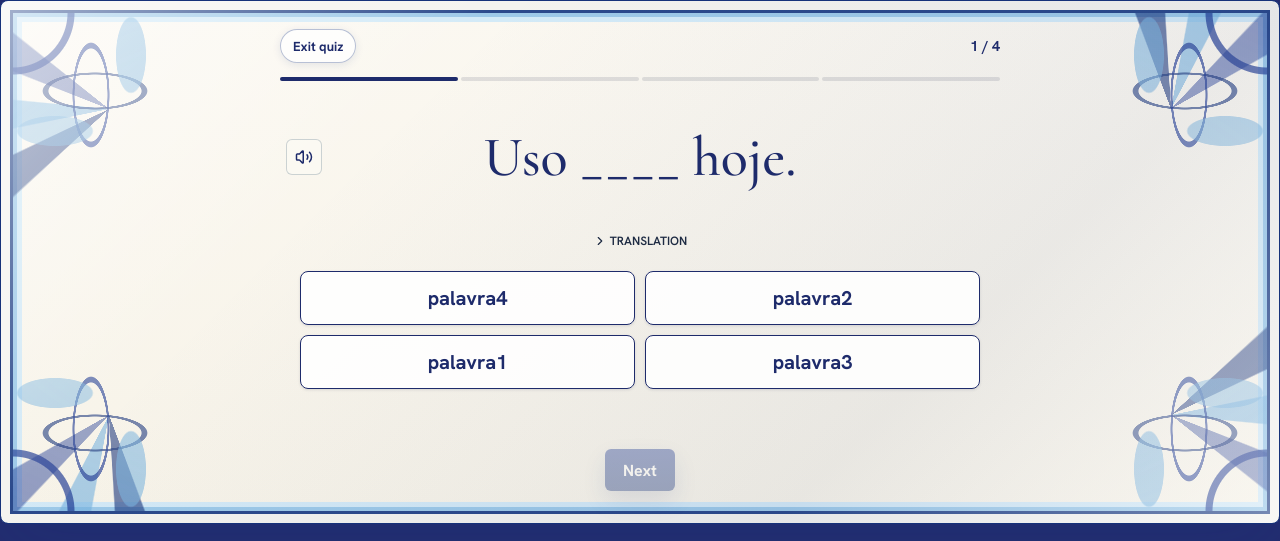
ModuleQuiz audio › locks choices, shows feedback, and waits for Next before advancing
This screenshot has width=1280, height=541.
Click the button "palavra4". click: (468, 298)
box: left=300, top=271, right=635, bottom=325
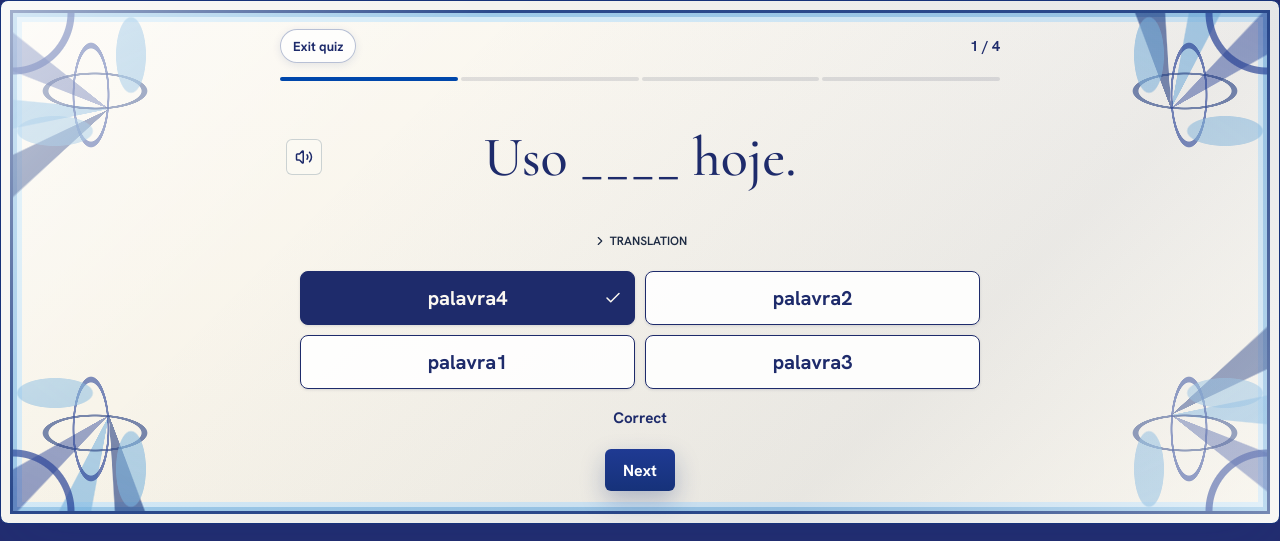
Expected: the button "Next" is enabled
Click the button "Next". click: (640, 470)
box: left=605, top=449, right=675, bottom=491
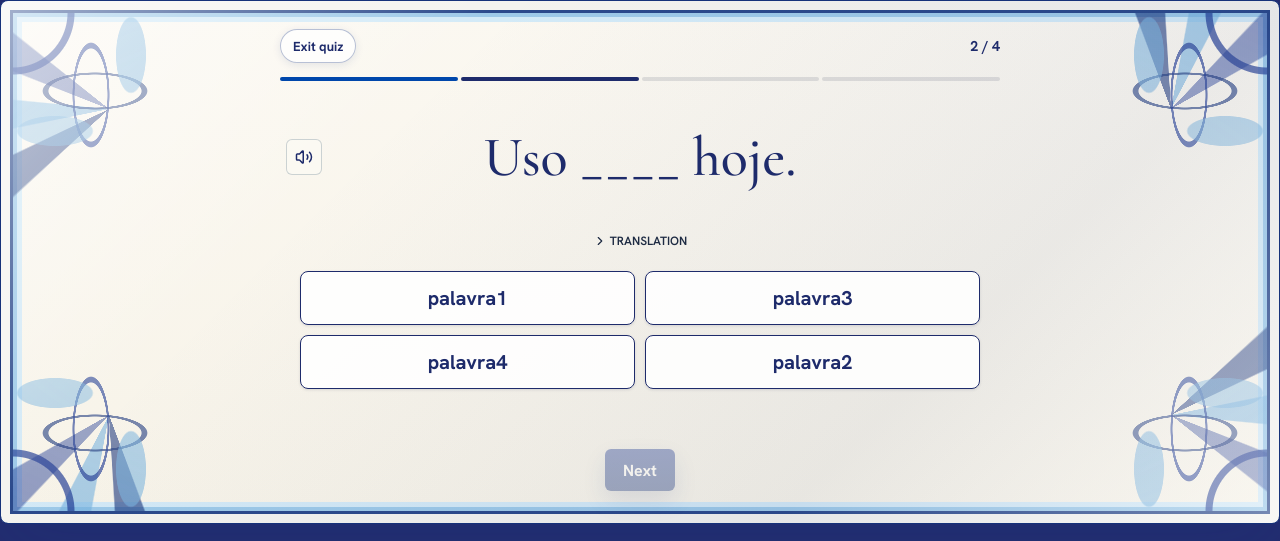
Expected: the number of elements with class "module-quiz-progress-segment" is 4, left=280, top=77, right=458, bottom=81; left=461, top=77, right=639, bottom=81; left=642, top=77, right=819, bottom=81; left=822, top=77, right=1000, bottom=81
Expected: the text "2 / 4" is shown, left=970, top=37, right=1000, bottom=55
